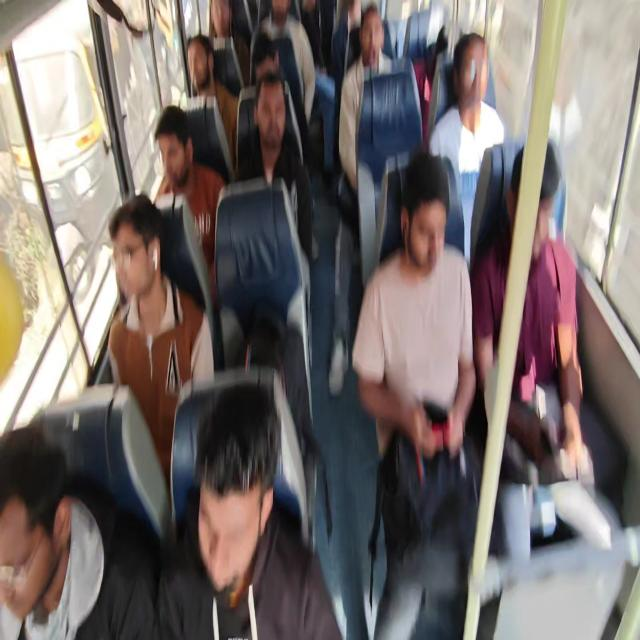person: (0, 432, 86, 640), (176, 424, 259, 591), (496, 154, 578, 306), (408, 144, 472, 323), (120, 106, 210, 208), (126, 201, 182, 344), (451, 64, 504, 160), (242, 84, 298, 162), (286, 0, 336, 65), (365, 5, 395, 88), (184, 29, 222, 88), (237, 61, 287, 98), (253, 0, 287, 54), (436, 19, 459, 81), (195, 0, 225, 44), (342, 0, 363, 39)
